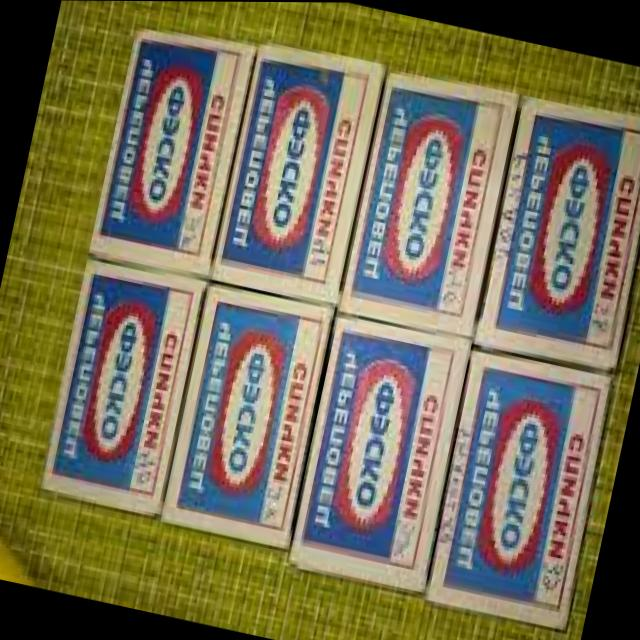match: (412, 343, 624, 639), (275, 303, 480, 600), (147, 274, 346, 562), (202, 32, 393, 318), (334, 58, 526, 341), (77, 15, 266, 289), (466, 85, 640, 381), (28, 256, 211, 530)
